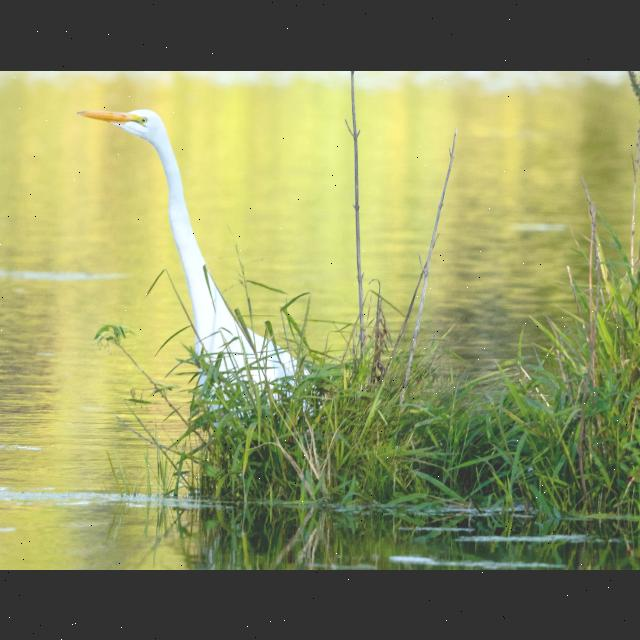egret: (60, 90, 226, 352)
